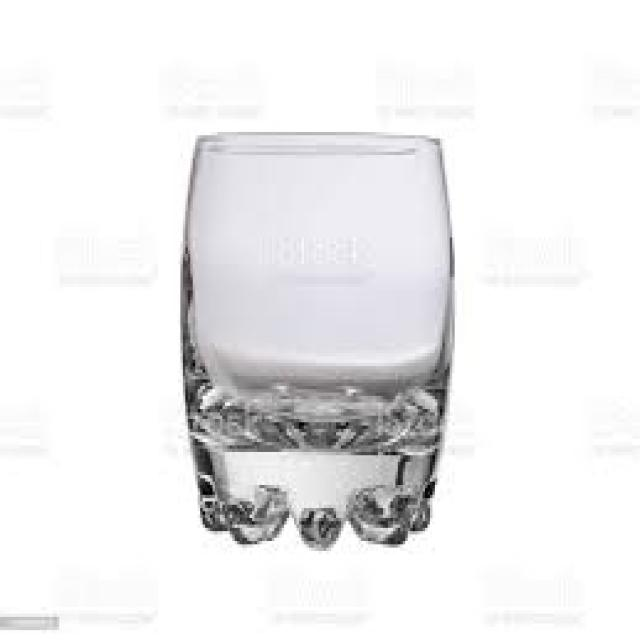glass: (178, 129, 452, 548)
